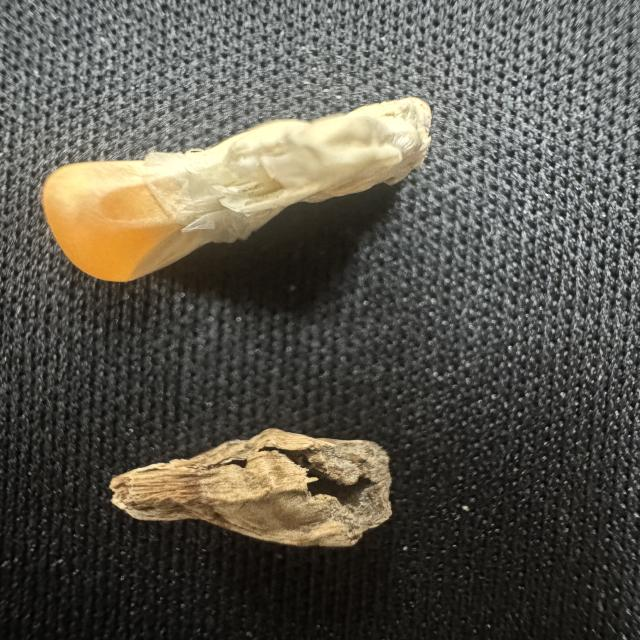Bad-Seed: (29, 81, 453, 302), (91, 423, 412, 555)
